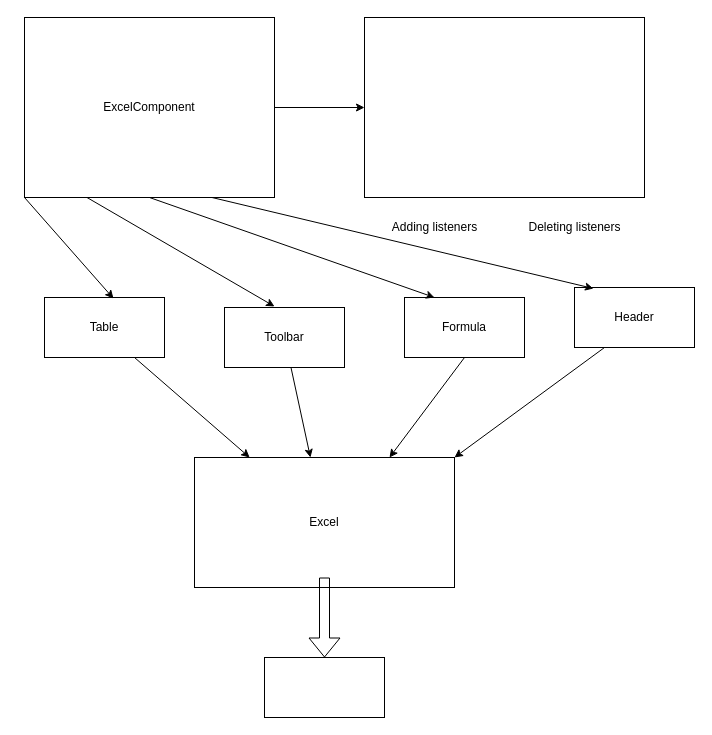
Image size: 712x735. Some labels were removed from this diagram. The centre of each missing label's shape, as x and y in pixels:
"DOMListener" goes at (504,107).
"Html" goes at (324,687).
